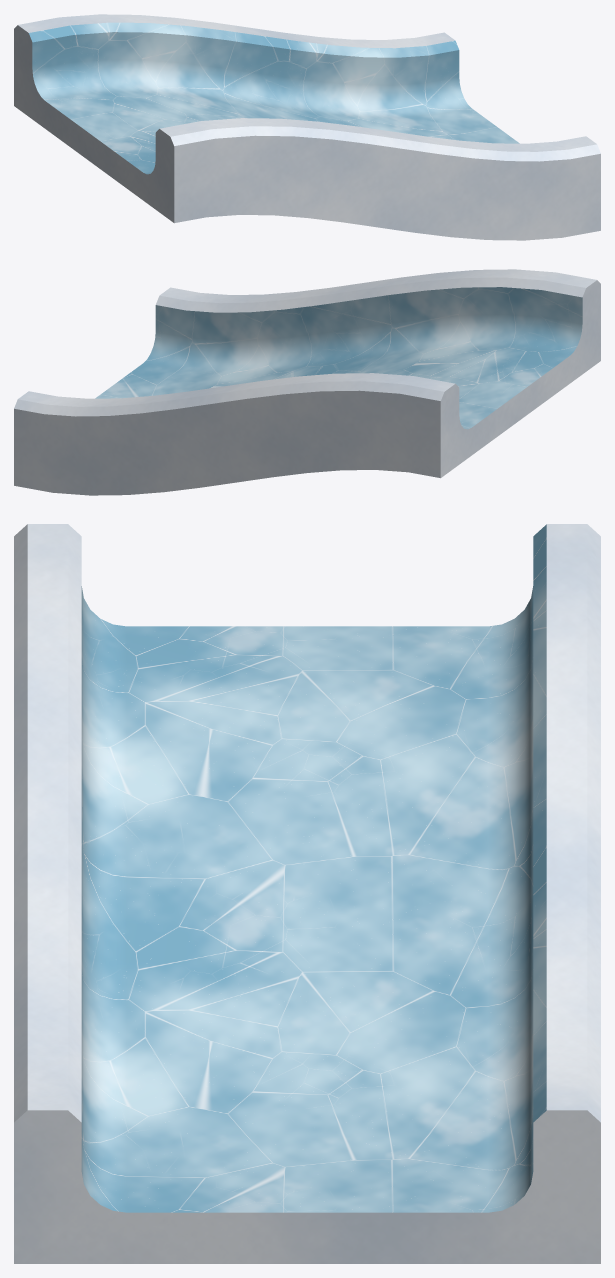
File: SM_SlideChute_Slope_400x100.fbx
3 views of the same model, one above another, from view 1: azimuth 30°, elevation 25°; view 2: azimuth 150°, elevation 25°; view 3: azimuth 270°, elevation 25° (orthographic). The views are drawn at different scales.
Visible parts, largest first — view 1: SM_SlideChute_Slope_400x100; view 2: SM_SlideChute_Slope_400x100; view 3: SM_SlideChute_Slope_400x100.
Boxes of the visible parts, x1=… form: SM_SlideChute_Slope_400x100: x1=14, y1=14, x2=600, y2=240; SM_SlideChute_Slope_400x100: x1=14, y1=269, x2=600, y2=495; SM_SlideChute_Slope_400x100: x1=14, y1=524, x2=600, y2=1263.
Size of what is drawn, in the model's own units: 260 by 400 by 175.
